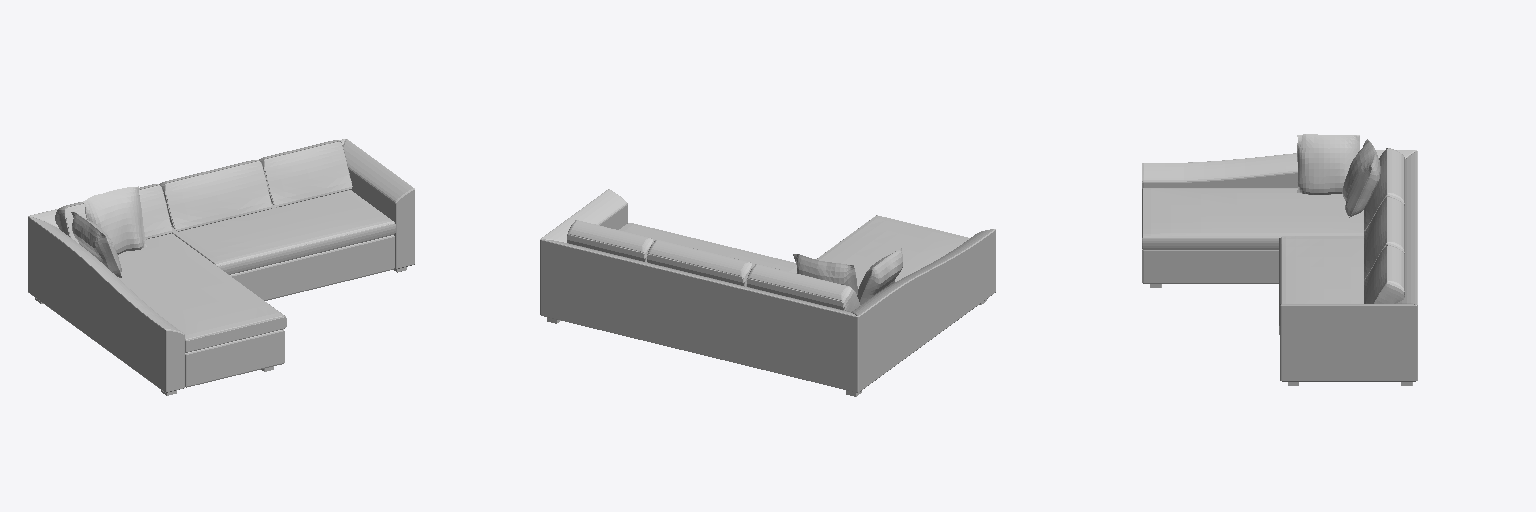
The model's file is Sofa_3_obj.obj.
The picture shows the model from 3 angles: view 1: azimuth 30°, elevation 25°; view 2: azimuth 150°, elevation 25°; view 3: azimuth 270°, elevation 25°; orthographic projection.
Visible parts, largest first — view 1: Object08, Object14, Object09, Object15, Object1, Object16, Object03, Object06, Plane05, Object13, Plane04; view 2: Object07, Object08, Object14, Object13, Object15, Object16, Object09, Object03, Plane04, Plane05; view 3: Object14, Object03, Object09, Object06, Object08, Plane04, Object15, Object07, Object16, Plane05, Object13.
Part boxes in pixels (x1,y1,x2,y2): Object08: (28,217,184,392); Object14: (118,233,286,352); Object09: (172,190,395,274); Object15: (159,160,271,231); Object1: (230,235,394,300); Object16: (259,140,352,207); Object03: (343,139,414,268); Object06: (185,329,284,387); Plane05: (83,186,146,254); Object13: (55,184,171,243); Plane04: (71,212,121,277); Object07: (540,239,857,392); Object08: (851,229,995,392); Object14: (816,215,969,288); Object13: (747,264,860,311); Object15: (647,240,753,286); Object16: (567,220,653,262); Object09: (619,223,796,273); Object03: (540,189,627,242); Plane04: (857,248,902,304); Plane05: (793,254,857,294); Object14: (1142,188,1363,249); Object03: (1280,304,1417,381); Object09: (1279,236,1363,334); Object06: (1142,249,1278,283); Object08: (1142,150,1416,188); Plane04: (1297,134,1359,194); Object15: (1364,197,1404,280); Object07: (1396,151,1417,305); Object16: (1364,245,1404,303); Plane05: (1342,139,1380,217); Object13: (1364,148,1404,231).
Size of the model in its own units: 96 by 31.59 by 72.05.